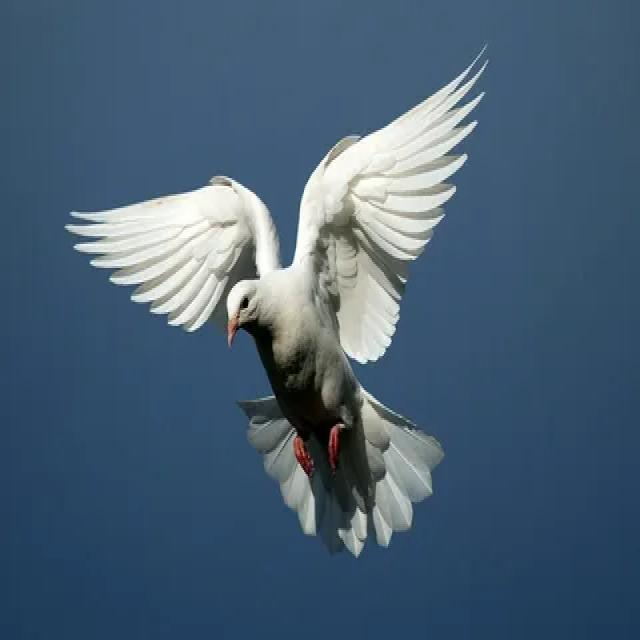pigeon: (58, 62, 482, 560)
